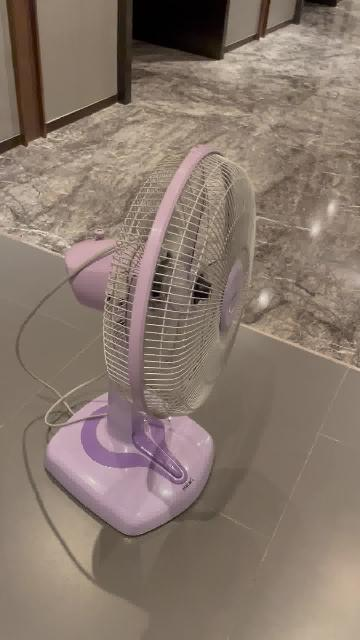Fan: (45, 141, 255, 537)
